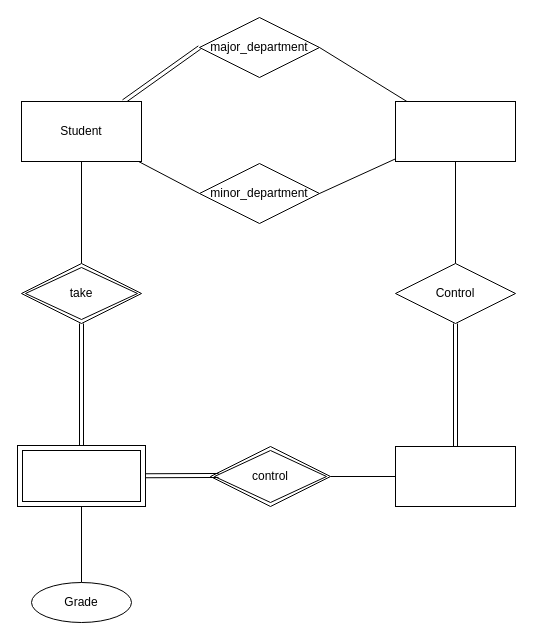
Image size: 533x640. Some labels were removed from this diagram. The box of each missing label's shape, as (x1, y1, x2, y2) in pixels:
Course: (394, 446, 516, 506)
Department: (394, 100, 516, 162)
Section: (16, 444, 146, 506)
